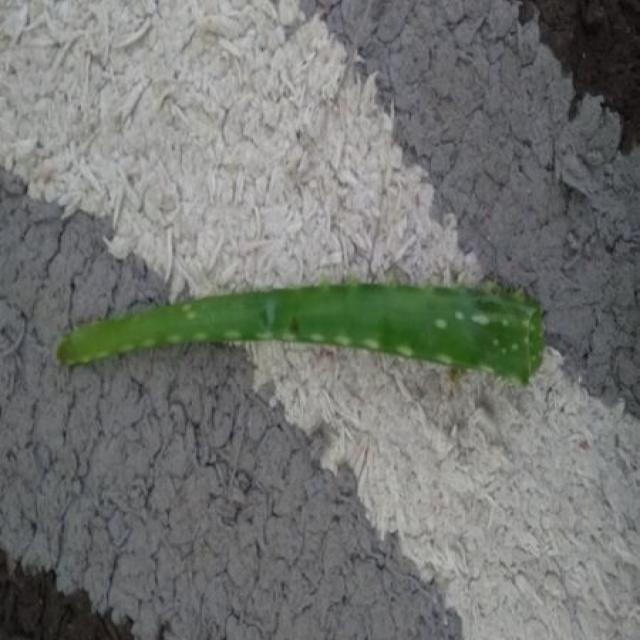defectedalovera: (57, 282, 543, 383), (57, 284, 543, 383)
